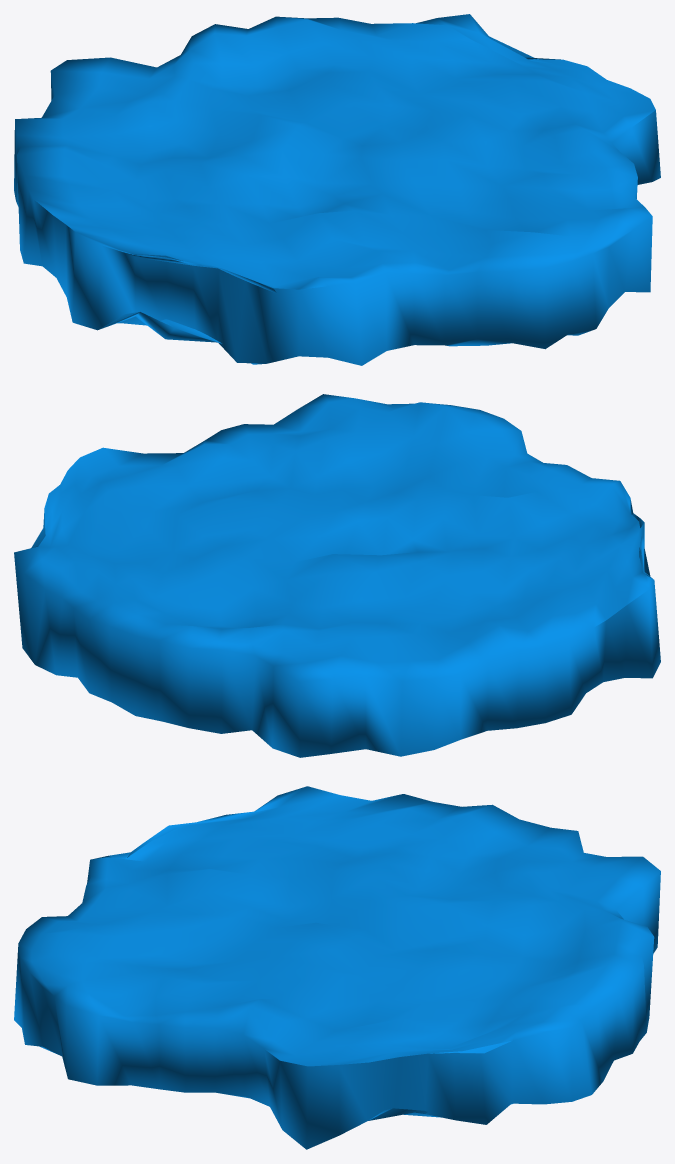
Rendered from Lake.fbx.
3 renders of one model, top to bottom at view 1: azimuth 30°, elevation 25°; view 2: azimuth 150°, elevation 25°; view 3: azimuth 270°, elevation 25°, orthographic. The views are drawn at different scales.
Visible parts, largest first — view 1: Circle; view 2: Circle; view 3: Circle.
Part boxes in pixels (x1,y1,x2,y2): Circle: [14, 14, 660, 365]; Circle: [14, 394, 660, 757]; Circle: [14, 786, 660, 1149].
Size of the model in its own units: 533 by 93.22 by 521.
